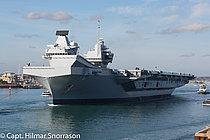MIL_Ship: (21, 26, 199, 102)
